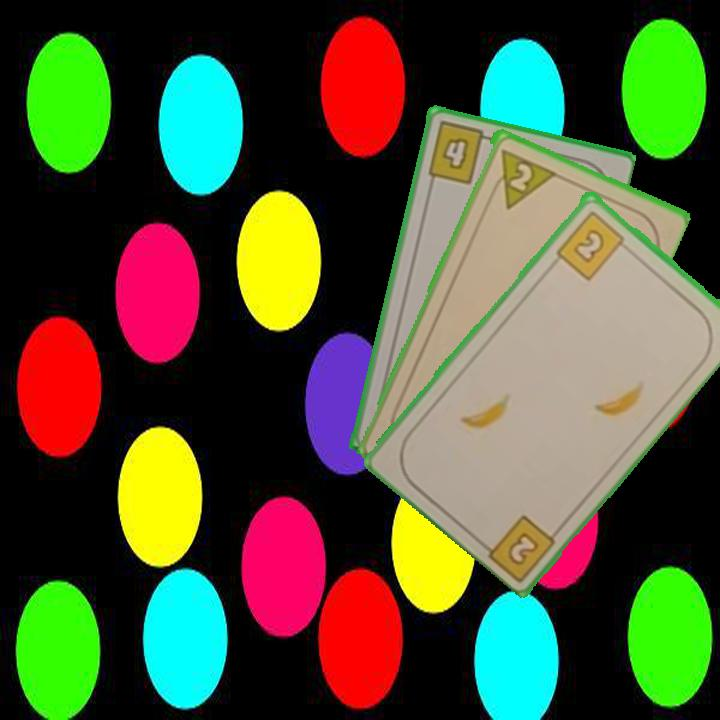2b: (552, 206, 633, 283), (503, 527, 542, 568)
2p: (486, 144, 557, 212)
4b: (424, 118, 496, 187)
